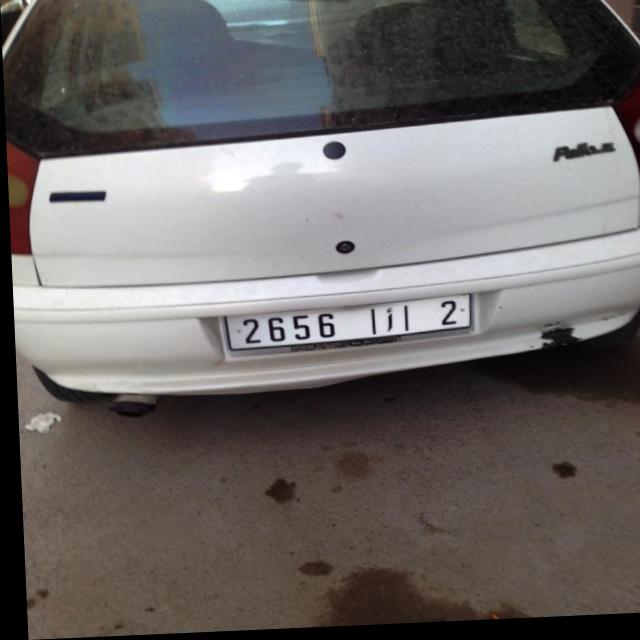License-Plate: (223, 299, 469, 352)
